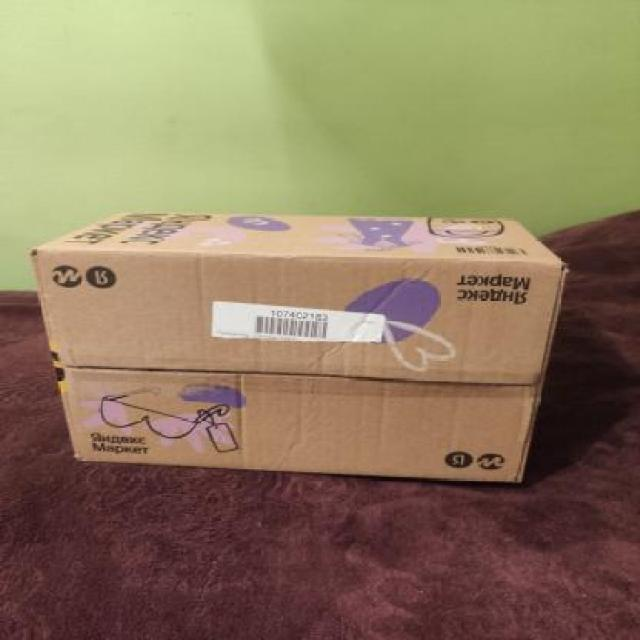box: (23, 204, 562, 502)
